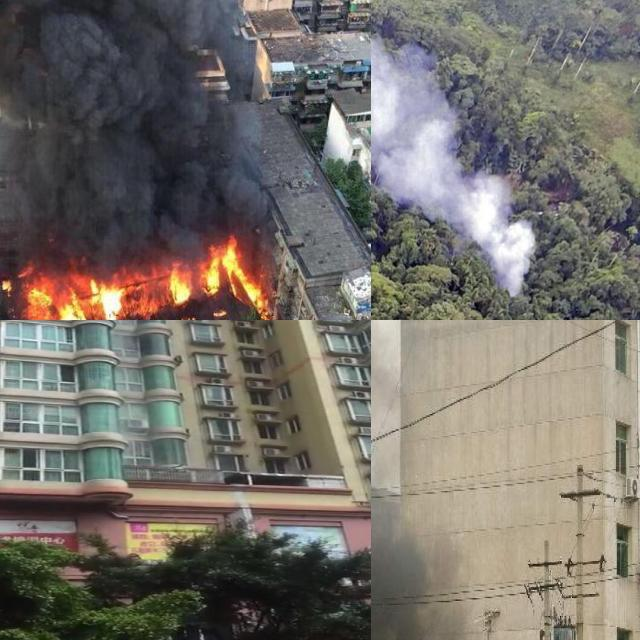fire: (8, 229, 274, 320)
smoke: (0, 0, 274, 259), (371, 0, 535, 294), (371, 320, 485, 640)
